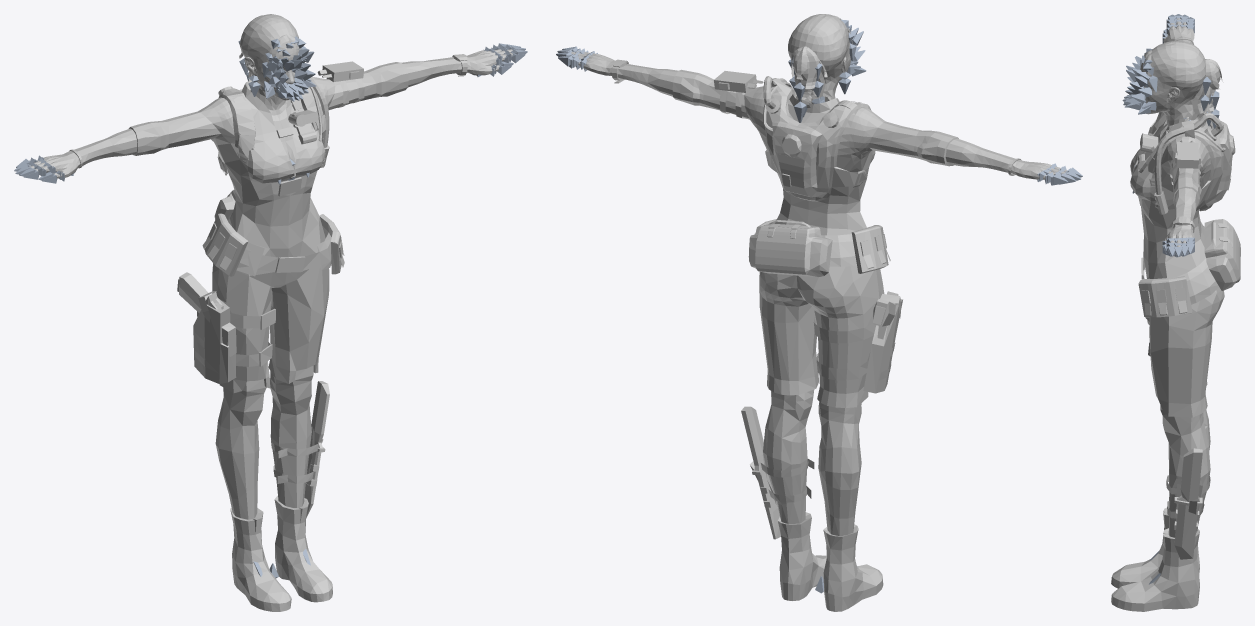
The model's file is sheva.obj.
The picture shows the model from 3 angles, left to right: view 1: azimuth 30°, elevation 25°; view 2: azimuth 150°, elevation 25°; view 3: azimuth 270°, elevation 25°; orthographic projection. The views are drawn at different scales.
Parts seen in each view (by area): view 1: Object01; view 2: Object01; view 3: Object01.
Boxes of the visible parts, x1,y1,x2,y2 form: Object01: [29, 14, 512, 611]; Object01: [571, 14, 1066, 611]; Object01: [1111, 18, 1240, 611].
Bounding box in the file's own units: 63.98 × 67.8 × 14.48.
